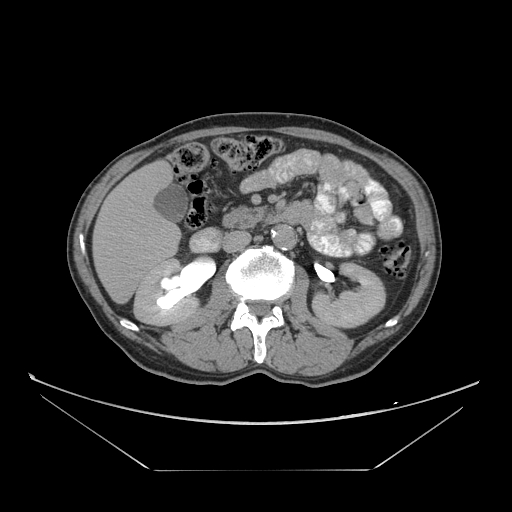left_kidney: (127, 256, 205, 327)
right_kidney: (312, 256, 382, 324)
